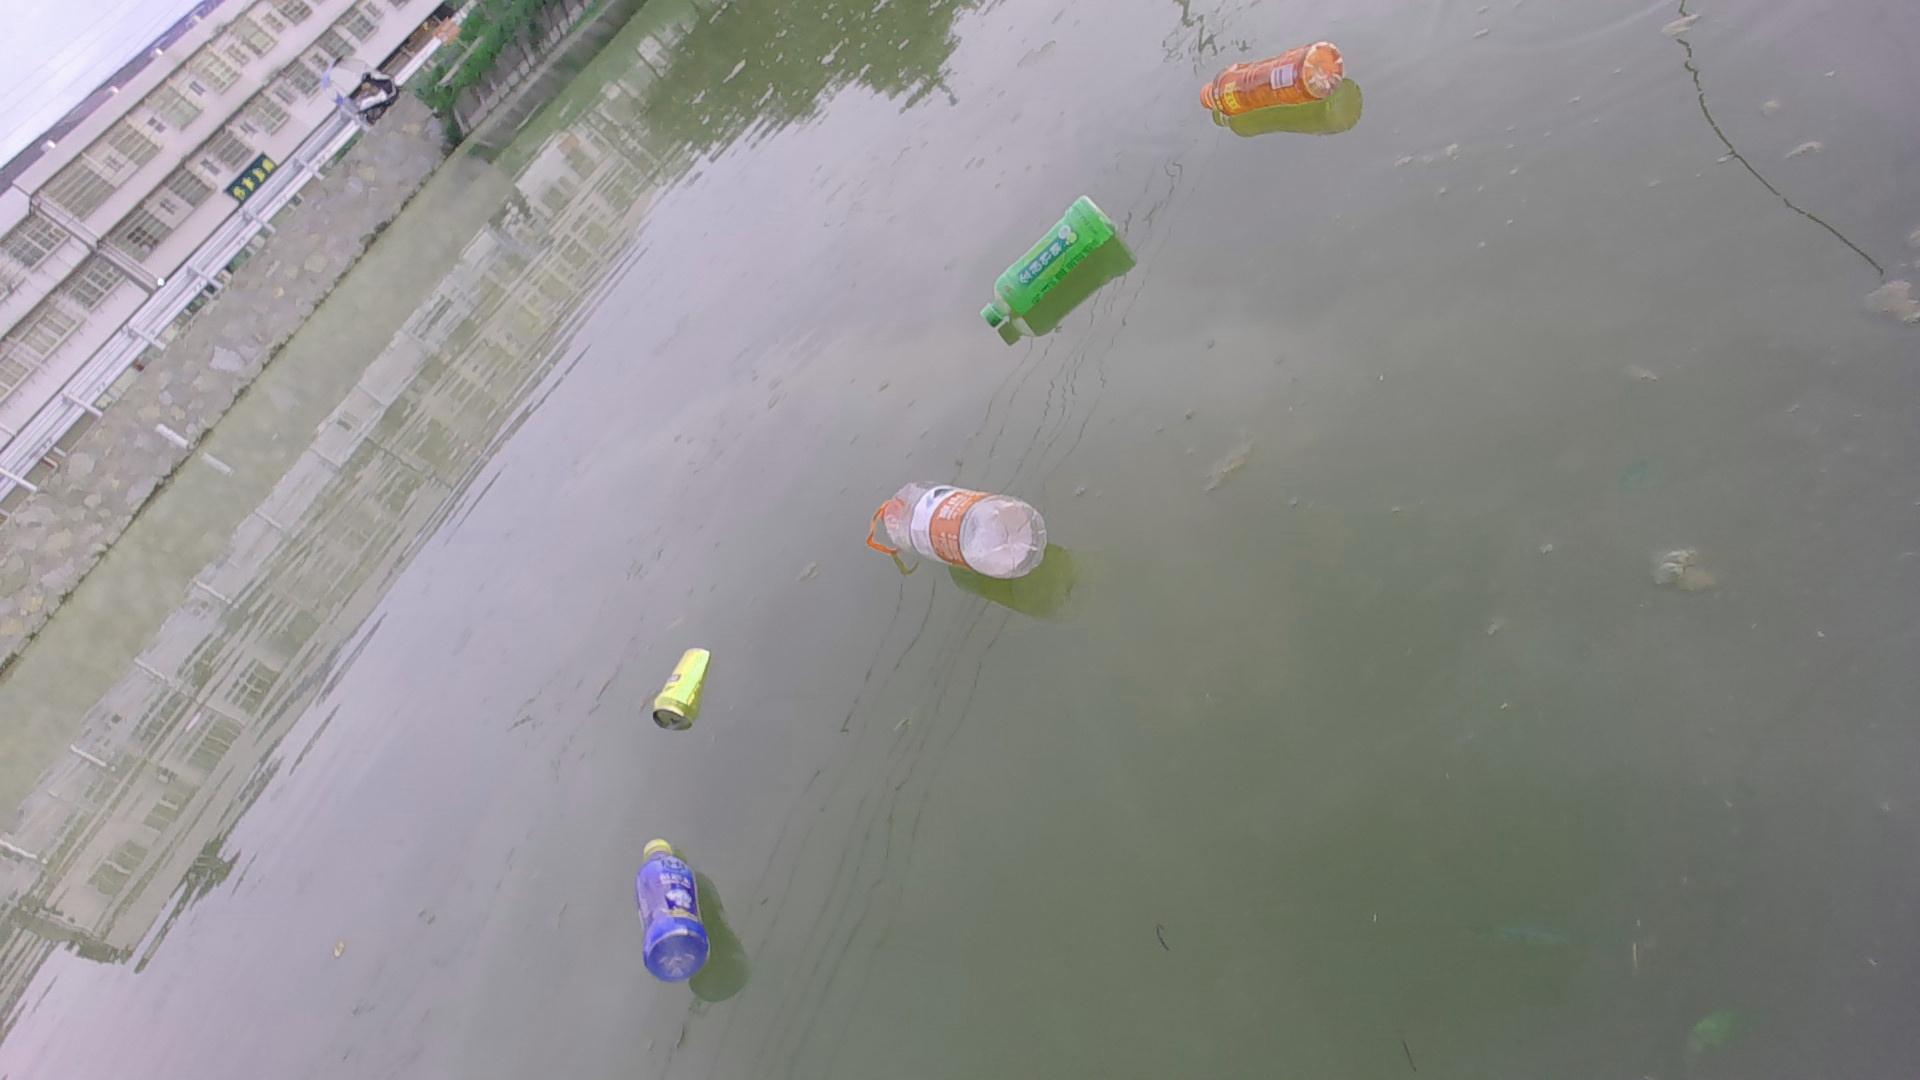Metal: (641, 646, 719, 740)
Plastic: (967, 190, 1124, 342), (858, 473, 1059, 587), (625, 831, 712, 997), (1192, 40, 1350, 123)
